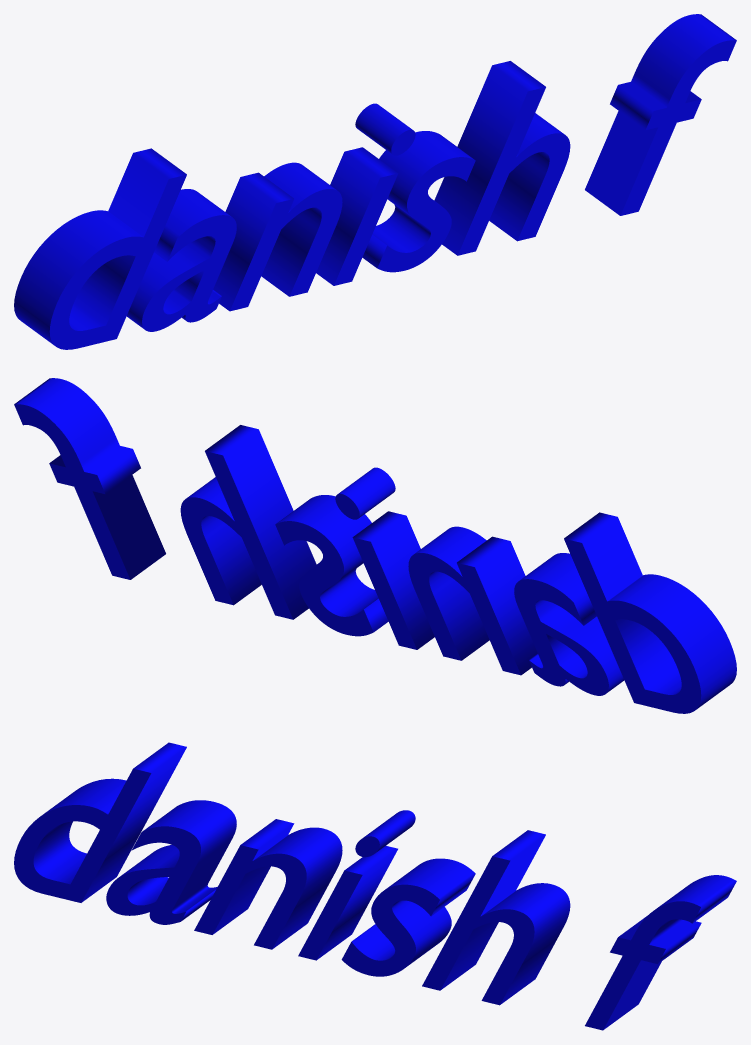
The picture shows the model from 3 angles, top to bottom: view 1: azimuth 30°, elevation 25°; view 2: azimuth 150°, elevation 25°; view 3: azimuth 330°, elevation 25°; orthographic projection.
Visible parts, largest first — view 1: danish f; view 2: danish f; view 3: danish f.
Boxes of the visible parts, bbox=[...] form: danish f: bbox=[14, 14, 736, 349]; danish f: bbox=[14, 378, 736, 713]; danish f: bbox=[14, 742, 736, 1030].
Bounding box in the file's own units: 5 × 1.05 × 0.45.
